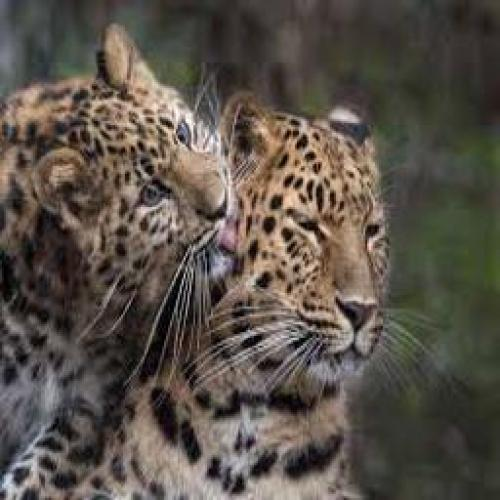amur_leopard-endangered: (0, 23, 233, 488), (223, 97, 393, 500)
